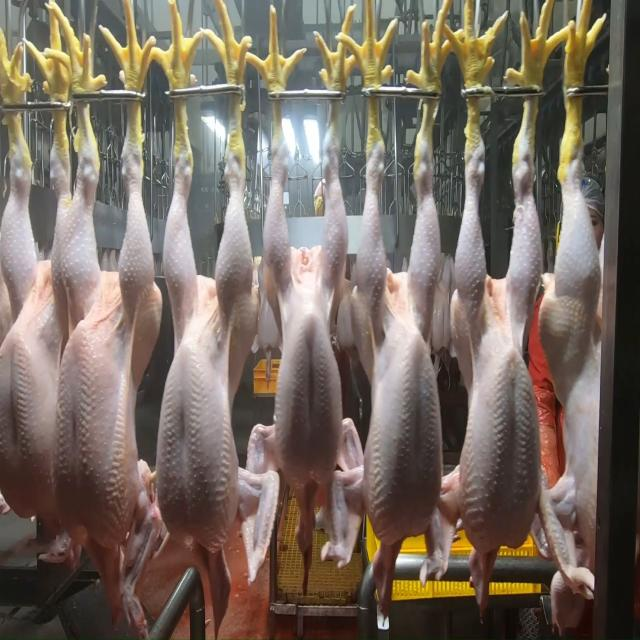chicken: (47, 97, 155, 547), (153, 163, 257, 560), (458, 93, 541, 544), (354, 139, 444, 553), (256, 139, 348, 490), (2, 141, 70, 558), (556, 152, 608, 594)
